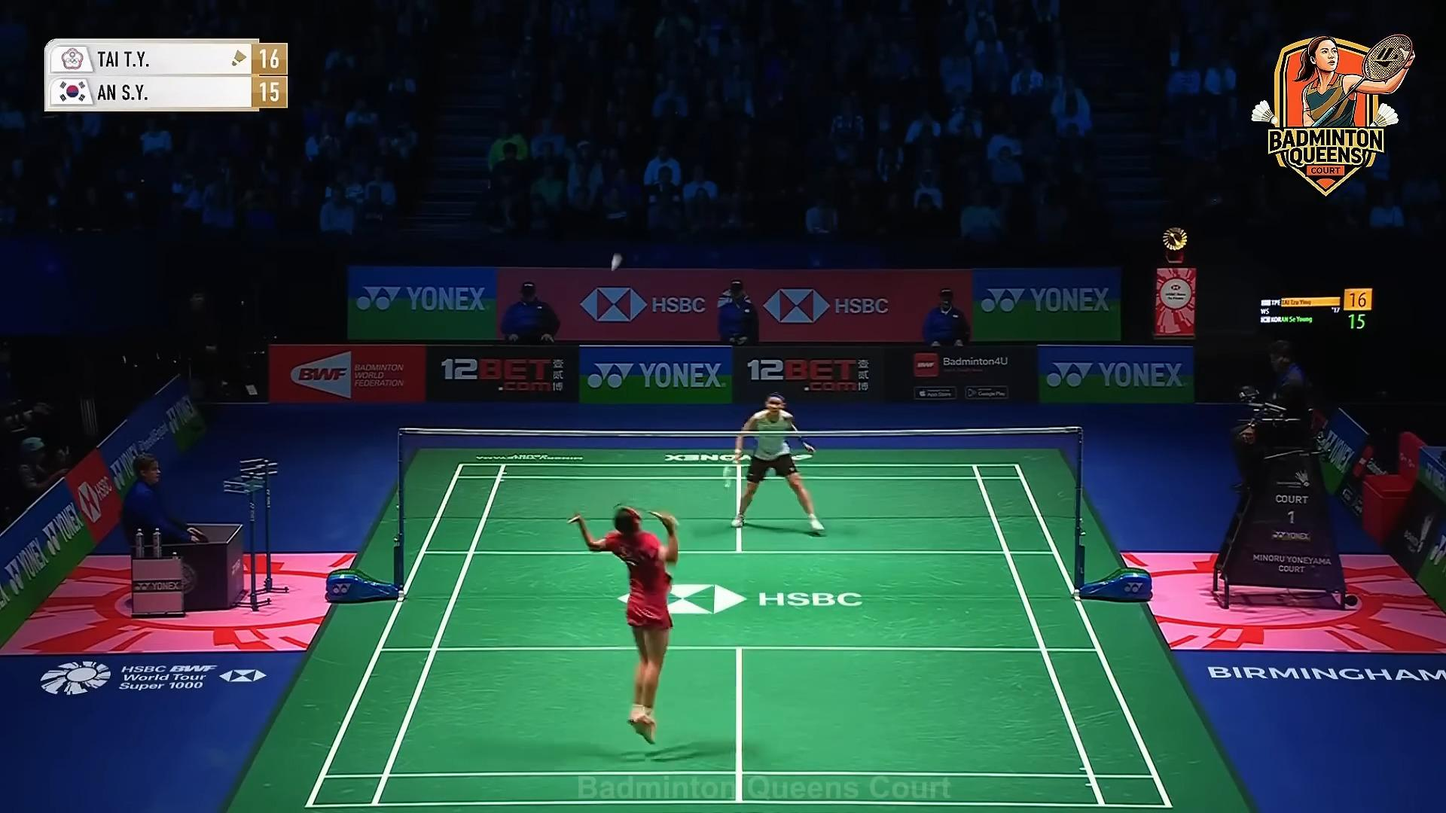player: (572, 505, 680, 751), (731, 393, 825, 536)
